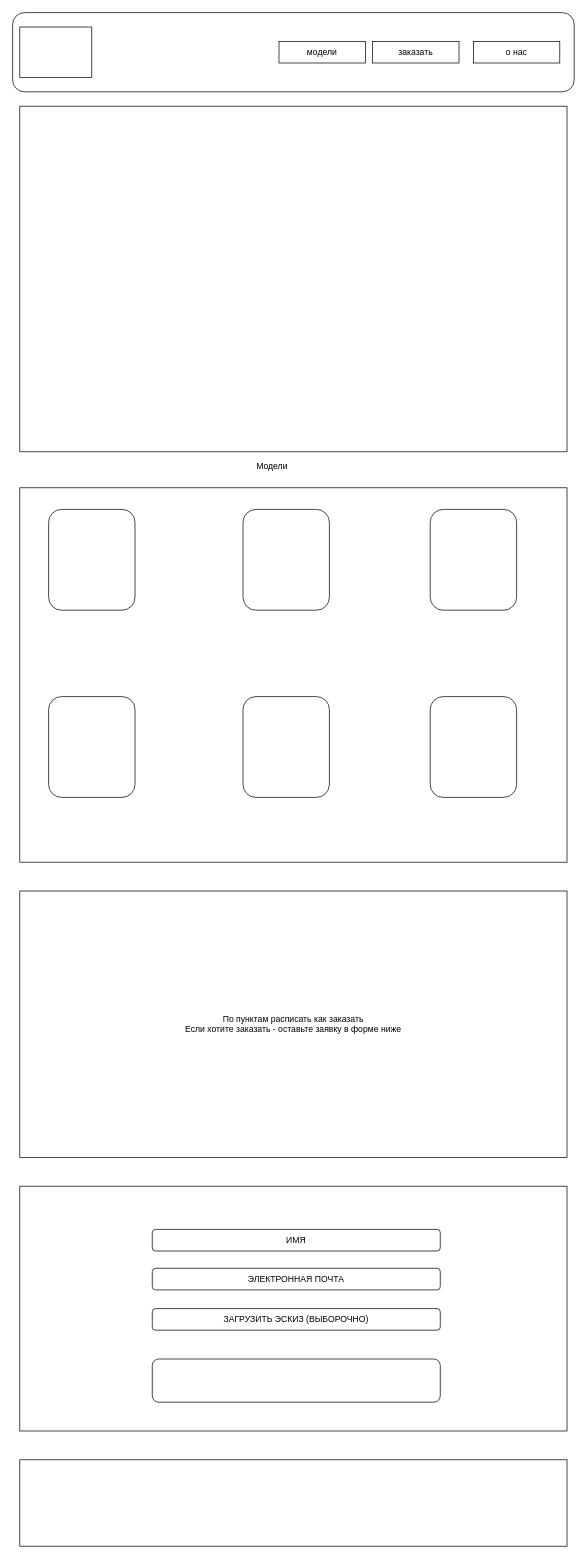
Image size: 587x1559. Some labels were removed from this diagram. The box of each missing label's shape, as (x1, y1, x2, y2) in pixels:
FOOTER (КОНТАКТЫ, ССЫЛКИ НА СОЦ СЕТИ, КАРТА??): (19, 1459, 567, 1546)
картинка с одной моделью: (19, 105, 567, 452)
ОТПРАВИТЬ: (152, 1358, 440, 1402)
тут название / логотип: (19, 26, 92, 77)
